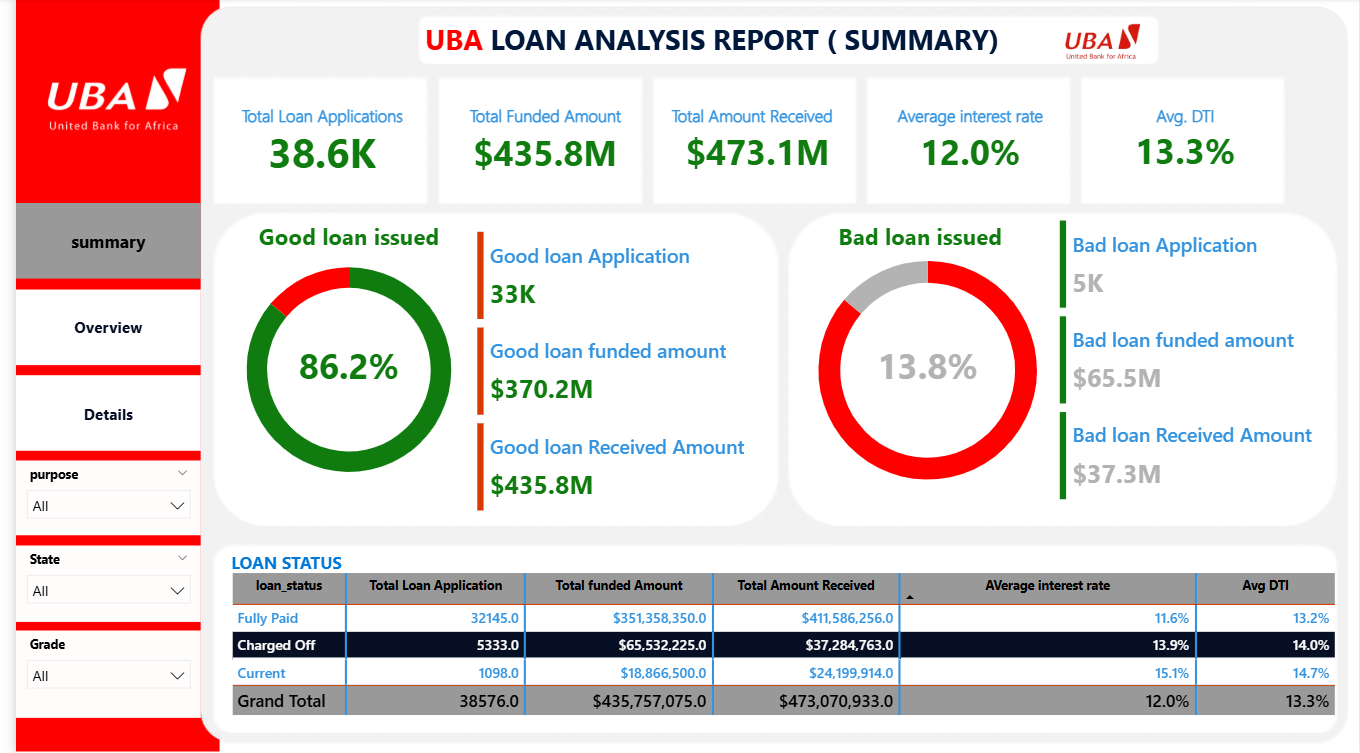

This screenshot's page, from the dashboard's own definition file:
{"tool":"powerbi","page":{"name":"summary","canvas":[1280,720],"ordinal":0},"visuals":[{"type":"image","box":[0,0,190.5,195.4],"z":0},{"type":"textbox","box":[384.5,15.5,702.4,45.2],"z":1000},{"type":"cardVisual","fields":{"Data":["financial_loan.Total Loan Application"]},"box":[190.5,103.6,202.4,76.2],"z":2000},{"type":"textbox","box":[190.5,95.2,202.4,76.2],"z":3000},{"type":"cardVisual","fields":{"Data":["financial_loan.Total funded Amount"]},"box":[408.3,104.8,191.7,75],"z":4000},{"type":"textbox","box":[408.3,95.2,191.7,46.4],"z":5000},{"type":"textbox","box":[600,95.2,202.4,101.2],"z":6000},{"type":"cardVisual","fields":{"Data":["Date table.Total Amount Received"]},"box":[610.7,104.8,191.7,73.8],"z":7000},{"type":"cardVisual","fields":{"Data":["financial_loan.AVerage interest rate"]},"box":[813.1,98.8,191.7,84.5],"z":8000},{"type":"textbox","box":[814.3,95.2,189.3,40.5],"z":9000},{"type":"cardVisual","fields":{"Data":["financial_loan.Avg DTI"]},"box":[1017.9,101.2,191.7,77.4],"z":10000},{"type":"textbox","box":[1017.9,95.2,191.7,38.1],"z":11000},{"type":"donutChart","fields":{"Category":["financial_loan.Good Vs Bad loan"],"Y":["financial_loan.Total Loan Application"]},"box":[190.5,196.4,253.6,315.5],"z":12000},{"type":"cardVisual","fields":{"Data":["financial_loan.Good loan %"]},"box":[221.4,286.9,191.7,116.7],"z":13000},{"type":"textbox","box":[733.3,207.1,256,51.2],"z":14000},{"type":"cardVisual","fields":{"Data":["financial_loan.Good loan Application","financial_loan.Good loan funded amount","financial_loan.Good loan Received Amount"]},"box":[434.5,217.9,290.5,275],"z":15000},{"type":"donutChart","fields":{"Category":["financial_loan.Good Vs Bad loan"],"Y":["financial_loan.Total Loan Application"]},"box":[733.3,207.1,270.2,295.2],"z":16000},{"type":"textbox","box":[190.5,207.1,253.6,51.2],"z":17000},{"type":"cardVisual","fields":{"Data":["financial_loan.Bad loan %"]},"box":[772.6,286.9,191.7,116.7],"z":18000},{"type":"cardVisual","fields":{"Data":["financial_loan.Bad loan Application","financial_loan.Bad loan funded amount","financial_loan.Bad loan Received Amount"]},"box":[989.3,207.1,290.5,275],"z":19000},{"type":"tableEx","fields":{"Values":["financial_loan.loan_status","financial_loan.Total Loan Application","financial_loan.Total funded Amount","Date table.Total Amount Received","financial_loan.AVerage interest rate","financial_loan.Avg DTI"]},"box":[200,542.9,1066.7,159.5],"z":20000},{"type":"image","box":[814.3,0,441.7,86.9],"z":21000},{"type":"textbox","box":[200,521.4,222.6,52.4],"z":22000},{"type":"slicer","fields":{"Values":["financial_loan.purpose"]},"box":[0,440.5,176.2,71.4],"z":23000},{"type":"slicer","fields":{"Values":["financial_loan.grade"]},"box":[0,602.4,176.2,83.3],"z":24000},{"type":"slicer","fields":{"Values":["financial_loan.address_state"]},"box":[0,521.4,176.2,72.6],"z":25000},{"type":"pageNavigator","box":[0,195.2,176.2,236.9],"z":26000}]}

Visuals, with their boxes on the page's 1280x720 design canvas (x1, y1, x2, y2). These are canvas units, not pixel positions in the 1360x753 screenshot, which may show the page scaled, cropped or inside an application window:
image: box=[0, 0, 190, 195]
textbox: box=[384, 16, 1087, 61]
cardVisual - financial_loan.Total Loan Application: box=[190, 104, 393, 180]
textbox: box=[190, 95, 393, 171]
cardVisual - financial_loan.Total funded Amount: box=[408, 105, 600, 180]
textbox: box=[408, 95, 600, 142]
textbox: box=[600, 95, 802, 196]
cardVisual - Date table.Total Amount Received: box=[611, 105, 802, 179]
cardVisual - financial_loan.AVerage interest rate: box=[813, 99, 1005, 183]
textbox: box=[814, 95, 1004, 136]
cardVisual - financial_loan.Avg DTI: box=[1018, 101, 1210, 179]
textbox: box=[1018, 95, 1210, 133]
donutChart - financial_loan.Good Vs Bad loan x financial_loan.Total Loan Application: box=[190, 196, 444, 512]
cardVisual - financial_loan.Good loan %: box=[221, 287, 413, 404]
textbox: box=[733, 207, 989, 258]
cardVisual - financial_loan.Good loan Application x financial_loan.Good loan funded amount: box=[434, 218, 725, 493]
donutChart - financial_loan.Good Vs Bad loan x financial_loan.Total Loan Application: box=[733, 207, 1004, 502]
textbox: box=[190, 207, 444, 258]
cardVisual - financial_loan.Bad loan %: box=[773, 287, 964, 404]
cardVisual - financial_loan.Bad loan Application x financial_loan.Bad loan funded amount: box=[989, 207, 1280, 482]
tableEx - financial_loan.loan_status x financial_loan.Total Loan Application: box=[200, 543, 1267, 702]
image: box=[814, 0, 1256, 87]
textbox: box=[200, 521, 423, 574]
slicer - financial_loan.purpose: box=[0, 440, 176, 512]
slicer - financial_loan.grade: box=[0, 602, 176, 686]
slicer - financial_loan.address_state: box=[0, 521, 176, 594]
pageNavigator: box=[0, 195, 176, 432]
